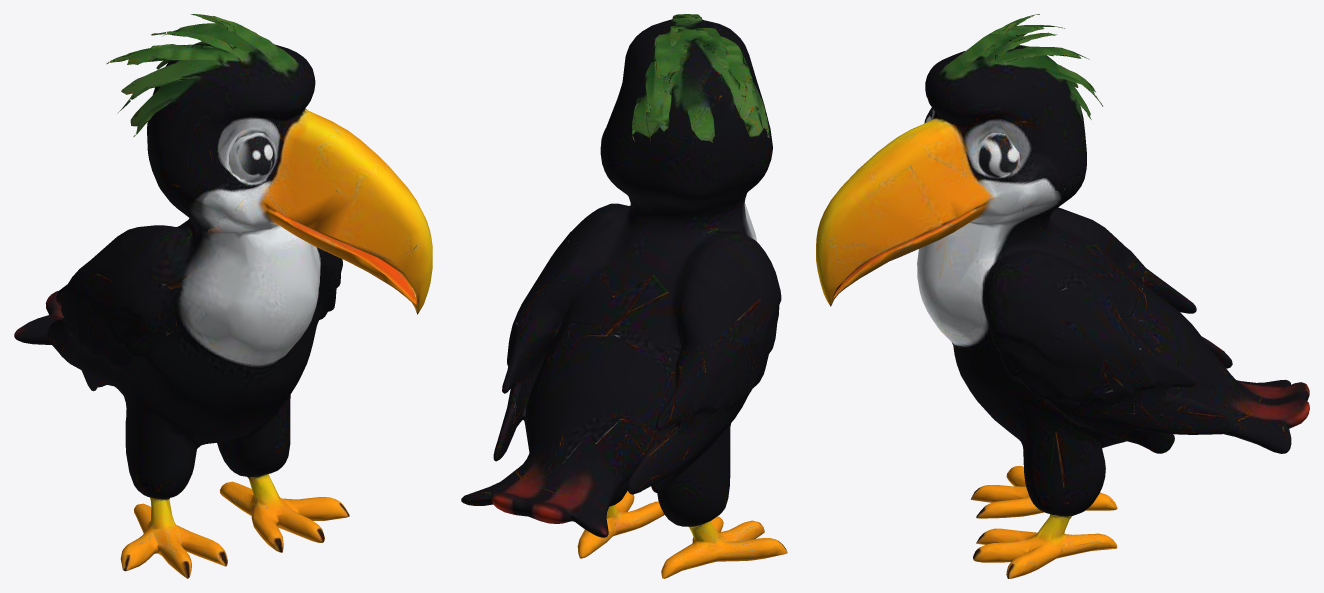
Rendered from toucan.glb.
The picture shows the model from 3 angles, left to right: view 1: azimuth 30°, elevation 25°; view 2: azimuth 150°, elevation 25°; view 3: azimuth 270°, elevation 25°; orthographic projection. The views are drawn at different scales.
Size of the model in its own units: 0.8404 by 1.9 by 1.69.
1 material, 1 textured.
